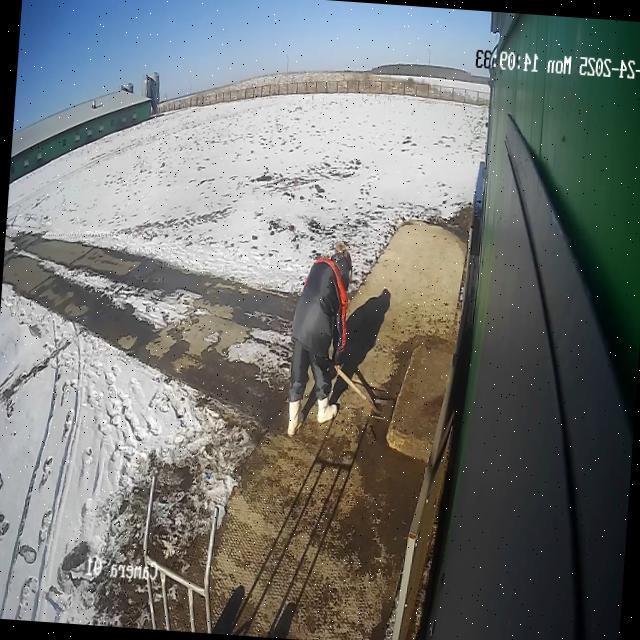Red uniform: (282, 240, 356, 442)
